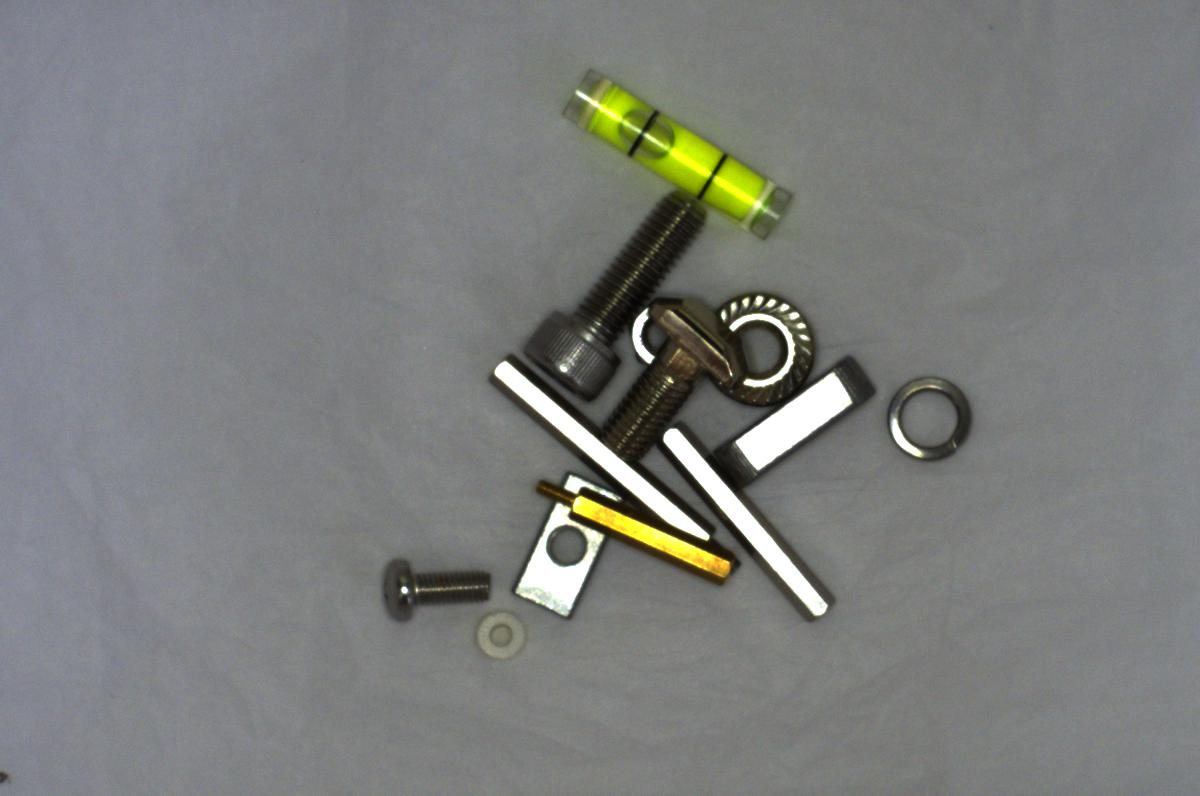Double hexagonal column: (661, 421, 835, 622)
Flange nut: (712, 276, 821, 409)
Hexagon pillar: (532, 473, 742, 590)
Hexagon screw: (514, 180, 738, 398)
Hexagonal steel column: (473, 356, 738, 559)
Horizontal bubble: (546, 62, 805, 245)
Keybar: (711, 359, 879, 481)
Plastic cushion pillar: (465, 603, 532, 663)
Rectangular nut: (507, 474, 630, 618)
Round head screw: (370, 542, 507, 623)
Spring washer: (871, 363, 984, 478)
T-shaped screw: (597, 305, 743, 437)
